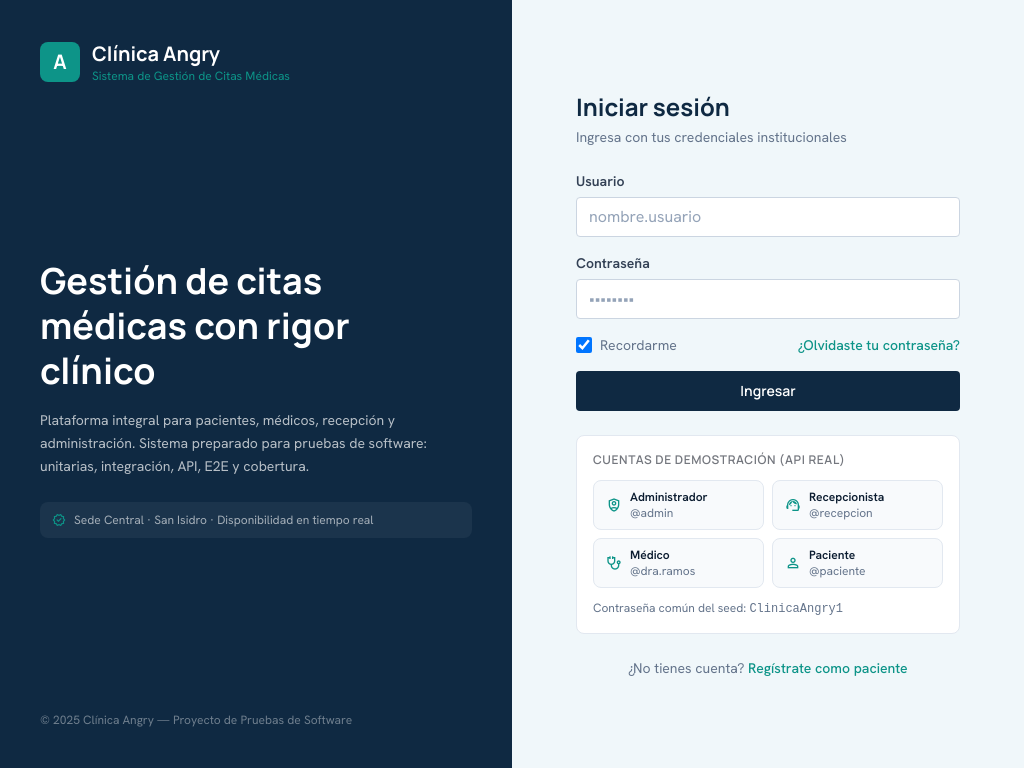
LoginPage › resalta un error ante credenciales inválidas
Type "usuario.invalido" into the field labelled "Usuario" at (768, 216), box [576,196,960,236]
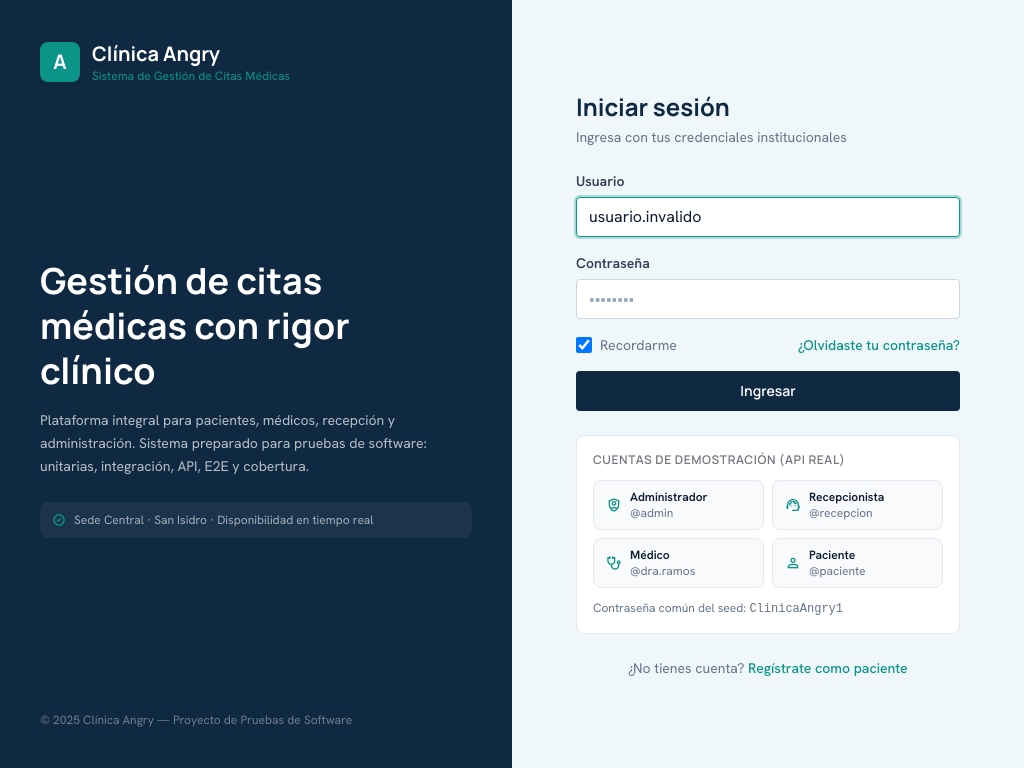
Type "demo123" into the password field labelled "Contraseña" at (768, 298), box [576,278,960,318]
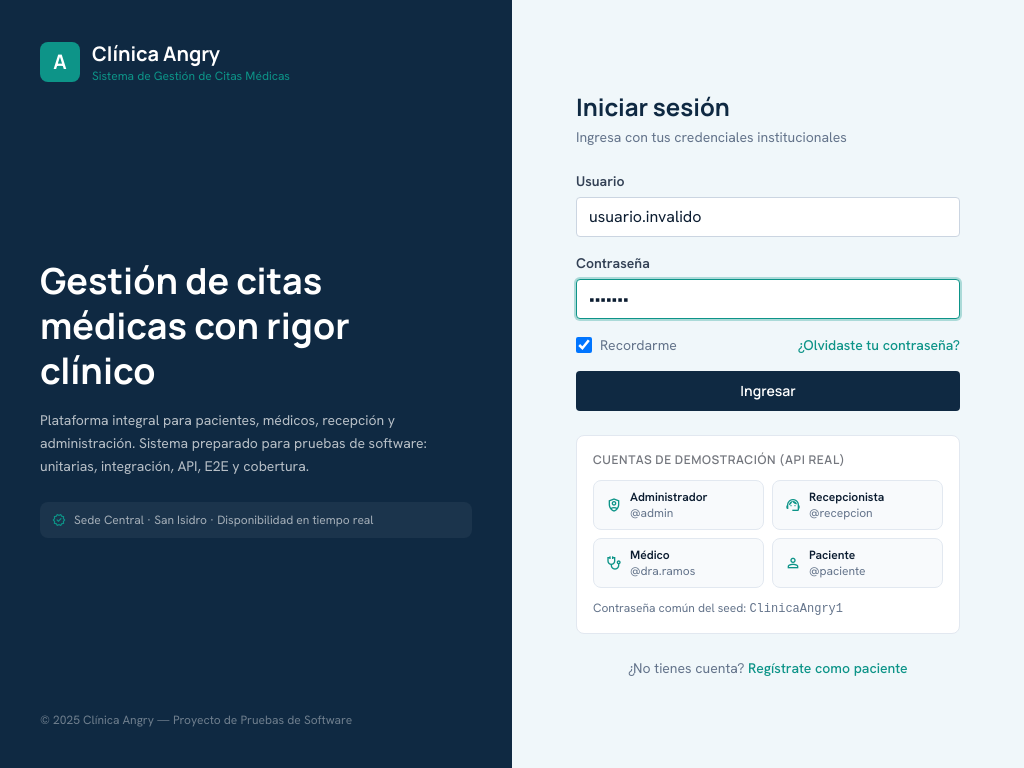
Click the button "Ingresar" at (768, 390), box [576,370,960,410]
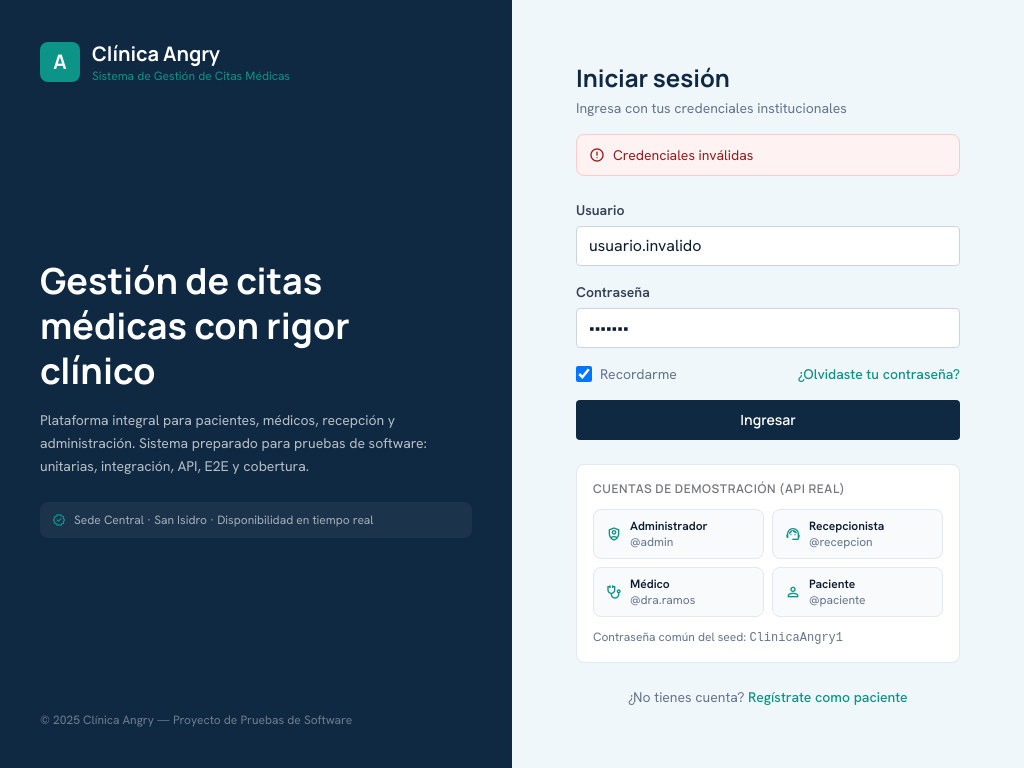
Result: the text "Credenciales inválidas" is shown at [613,144,753,164]
